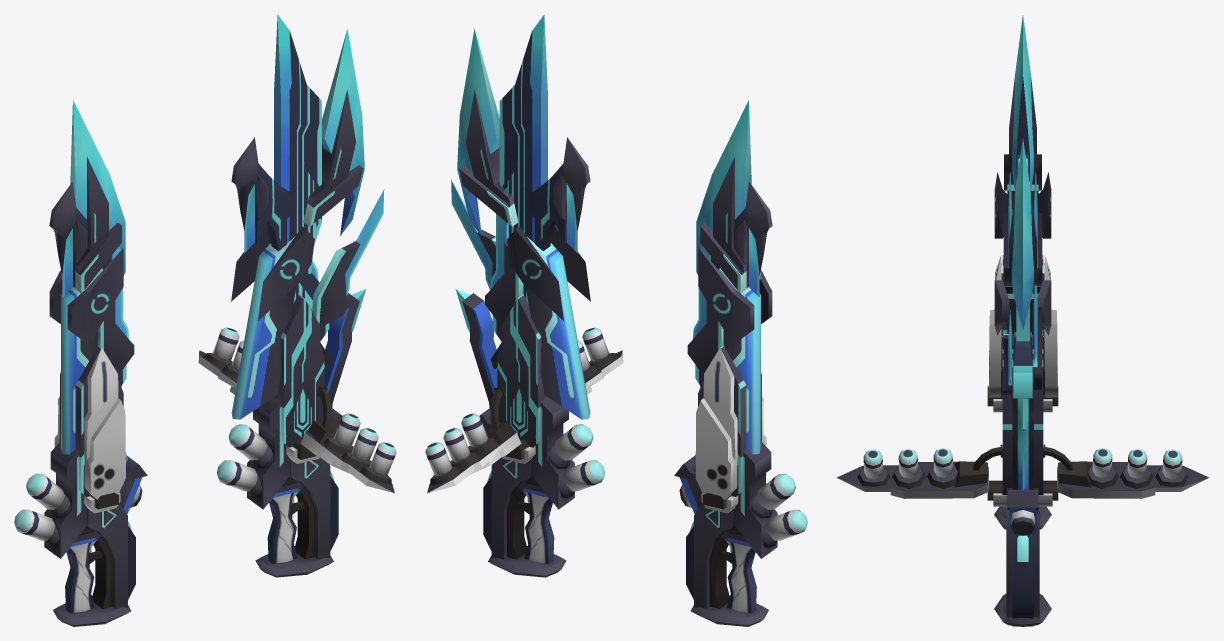
Rendered from wp_sword_sp06_view.fbx.
3 views of the same model, side by side, from view 1: azimuth 30°, elevation 25°; view 2: azimuth 150°, elevation 25°; view 3: azimuth 270°, elevation 25° (orthographic). The views are drawn at different scales.
Parts seen in each view (by area): view 1: wp_sword_sp06_open, wp_sword_sp06; view 2: wp_sword_sp06_open, wp_sword_sp06; view 3: wp_sword_sp06_open, wp_sword_sp06.
Boxes of the visible parts, left/top/right/bottom form: wp_sword_sp06_open: left=198, top=14, right=396, bottom=577; wp_sword_sp06: left=14, top=100, right=147, bottom=626; wp_sword_sp06_open: left=425, top=14, right=623, bottom=577; wp_sword_sp06: left=674, top=100, right=807, bottom=626; wp_sword_sp06_open: left=836, top=77, right=1209, bottom=626; wp_sword_sp06: left=987, top=15, right=1058, bottom=529.
Size of the model in its own units: 153 by 226 by 144.
